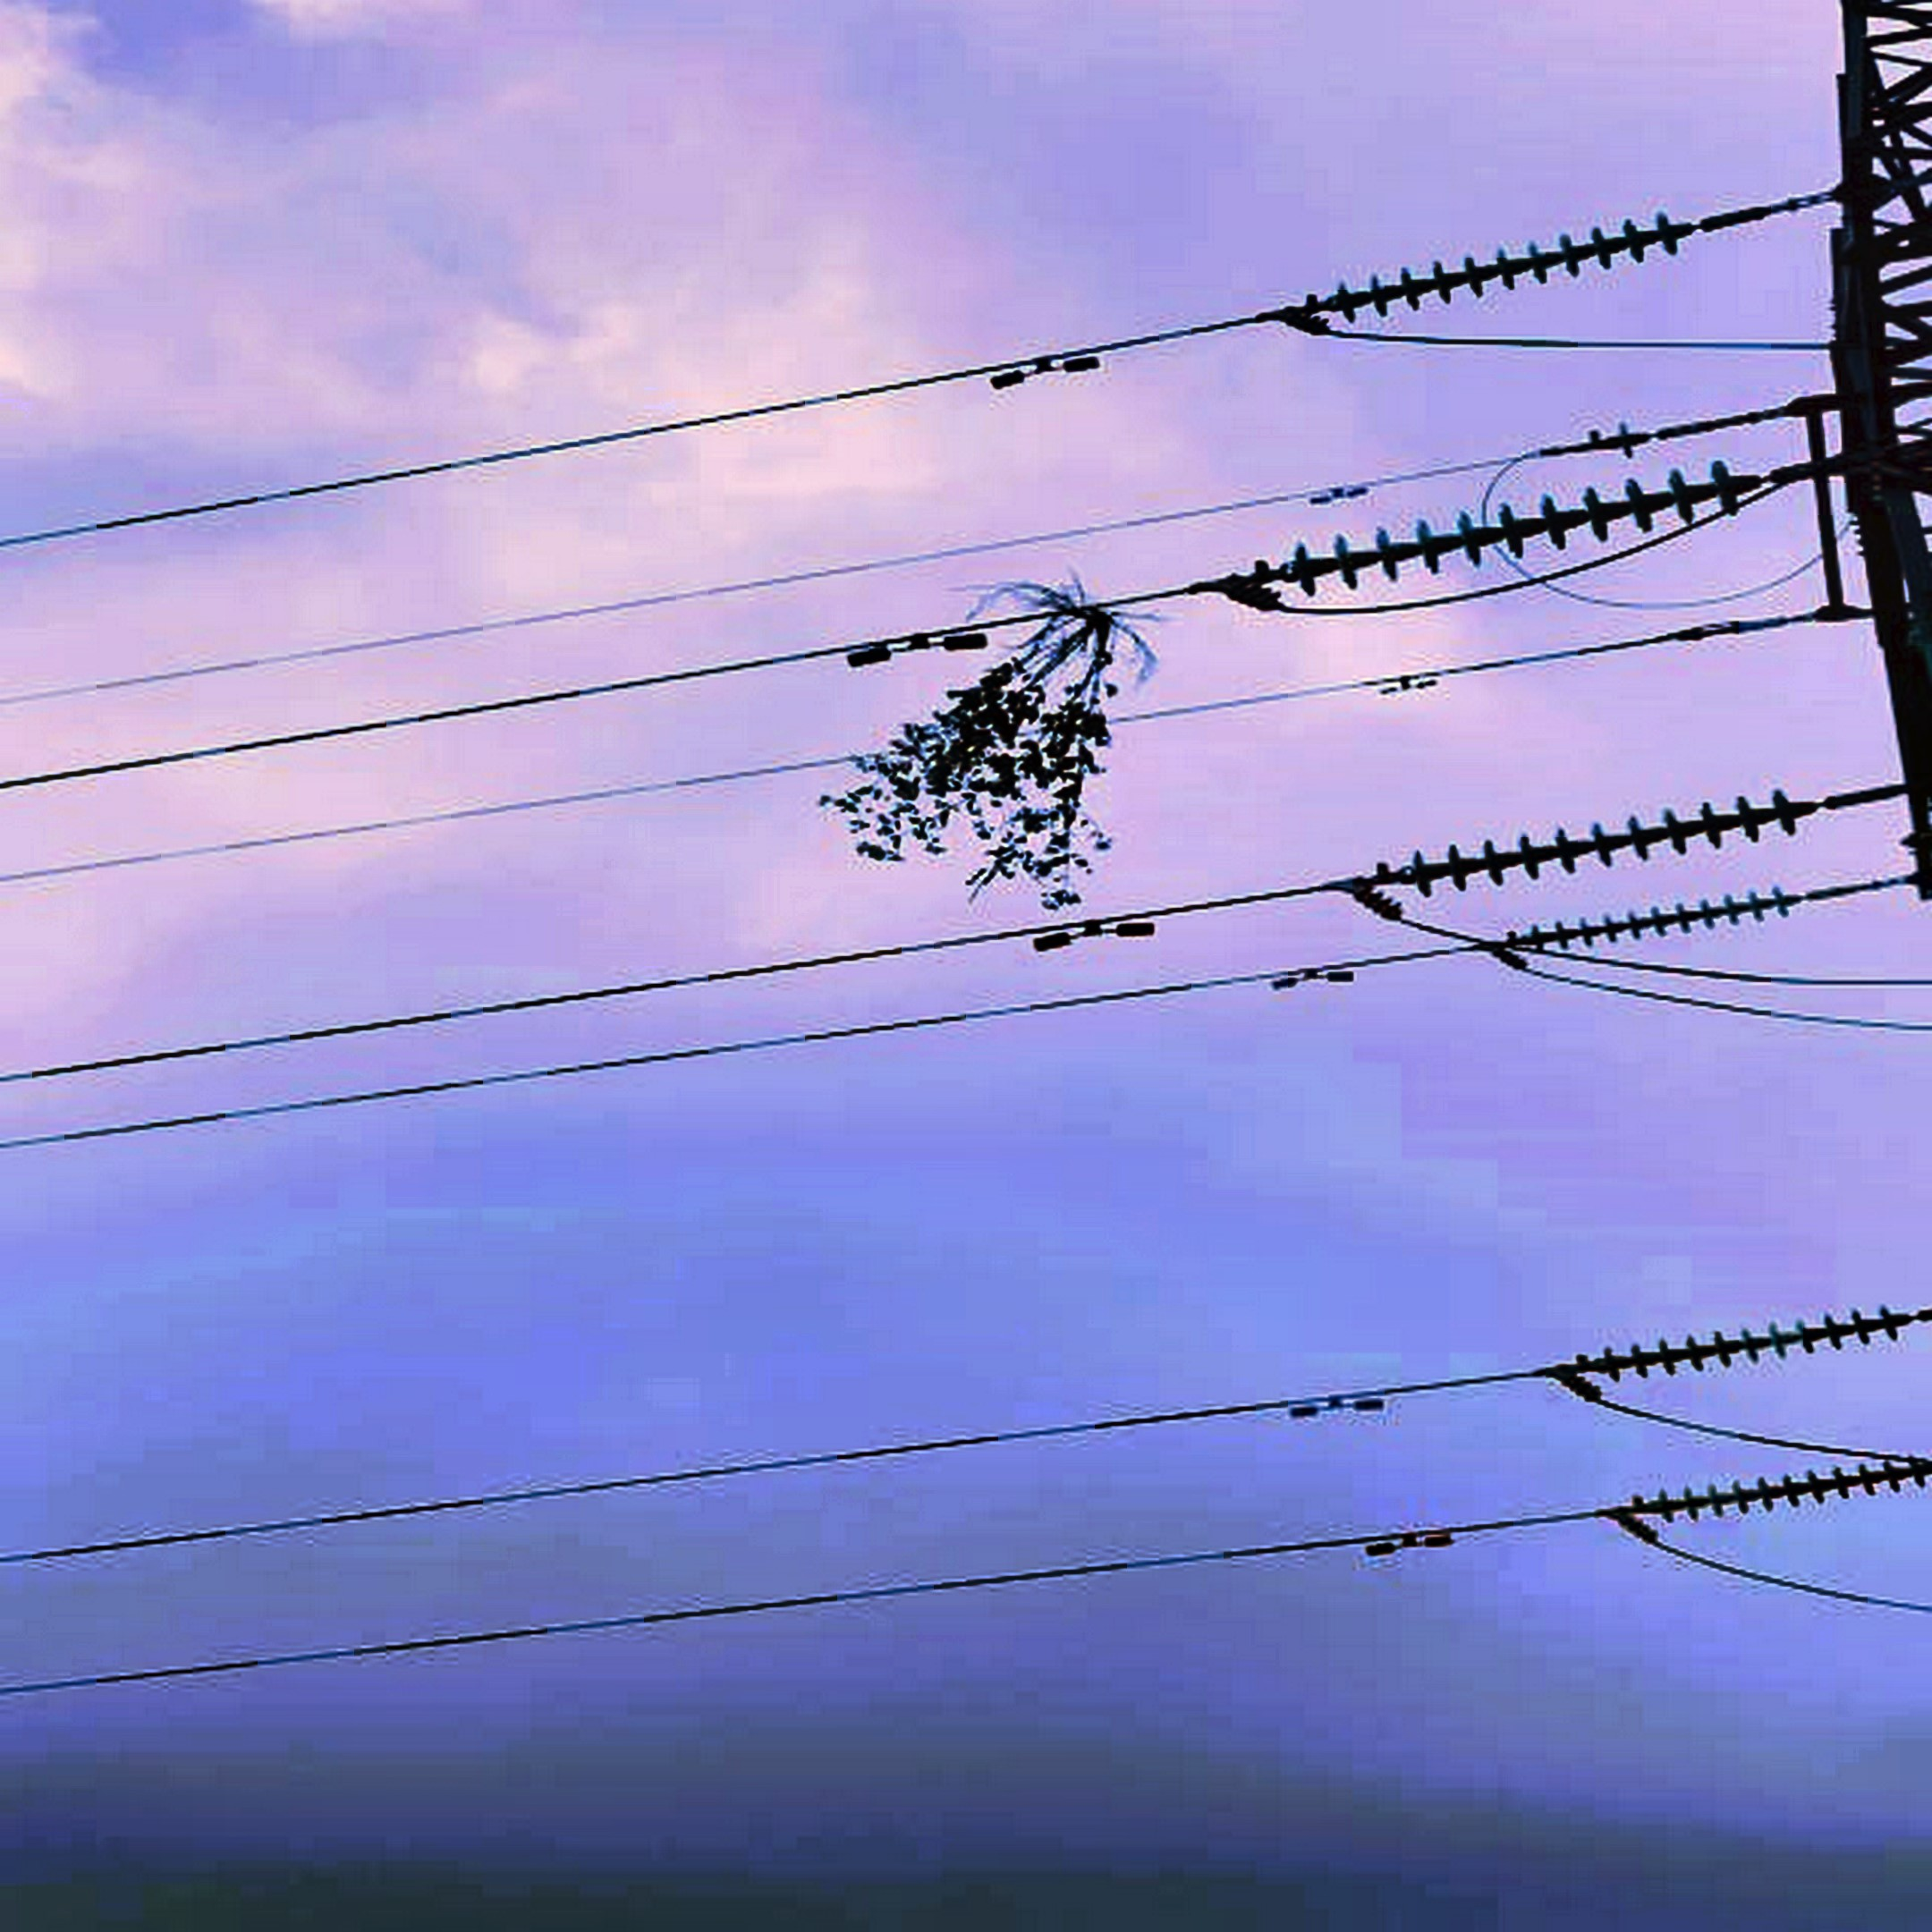wire foreign body: (844, 561, 1185, 883)
